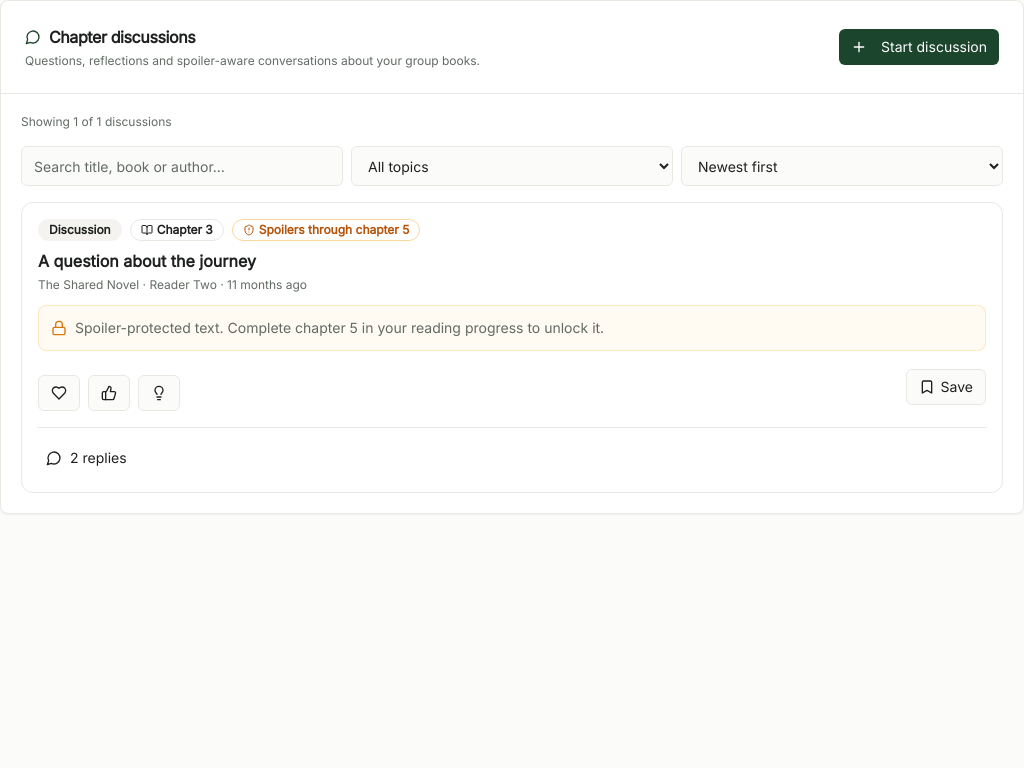
Test: GroupReadingDiscussions › does not allow replies while the discussion itself is locked
The image size is (1024, 768).
Click the button "2 replies" at (86, 458), box [38, 440, 135, 476]
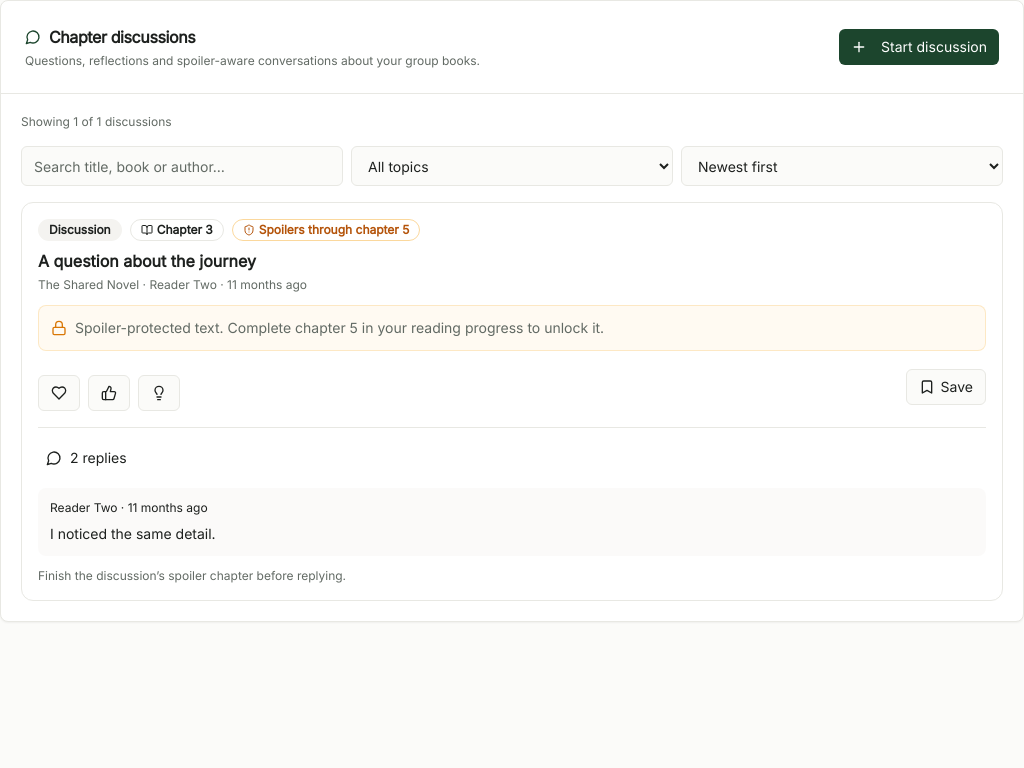
Now the text "Finish the discussion’s spoiler chapter before replying." is shown, box [38, 568, 346, 583]
